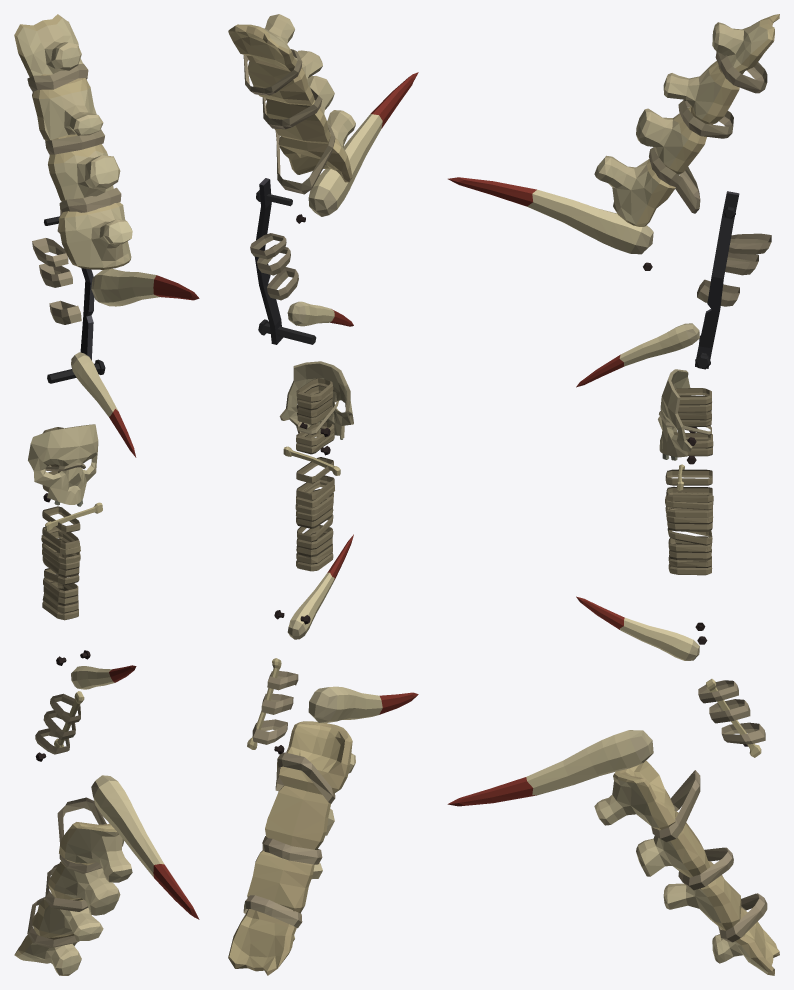
File: largeBowFearlessHandle.glb
3 renders of one model, left to right at view 1: azimuth 30°, elevation 25°; view 2: azimuth 150°, elevation 25°; view 3: azimuth 270°, elevation 25°, orthographic.
Parts seen in each view (by area): view 1: largeBowFearlessHandle; view 2: largeBowFearlessHandle; view 3: largeBowFearlessHandle.
Boxes of the visible parts, x1=… form: largeBowFearlessHandle: x1=14, y1=14, x2=199, y2=975; largeBowFearlessHandle: x1=228, y1=14, x2=418, y2=975; largeBowFearlessHandle: x1=447, y1=14, x2=779, y2=975.
Bounding box in the file's own units: 0.1464 × 1.6 × 0.5083.
